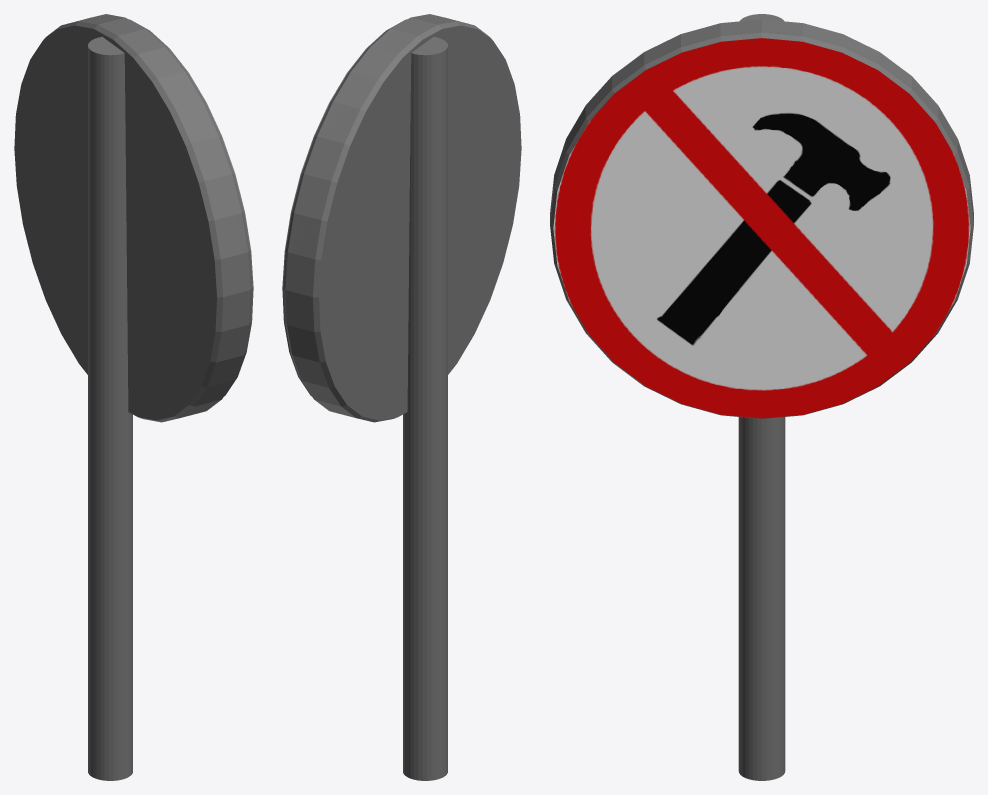
The model's file is Sign1.fbx.
3 views of the same model, side by side, from view 1: azimuth 30°, elevation 25°; view 2: azimuth 150°, elevation 25°; view 3: azimuth 270°, elevation 25° (orthographic). The views are drawn at different scales.
Parts seen in each view (by area): view 1: Sign; view 2: Sign; view 3: Sign.
Boxes of the visible parts, bbox=[...] form: Sign: bbox=[14, 14, 253, 780]; Sign: bbox=[282, 14, 521, 780]; Sign: bbox=[550, 14, 973, 780].
Size of the model in its own units: 0.281 by 3.1 by 1.58.
